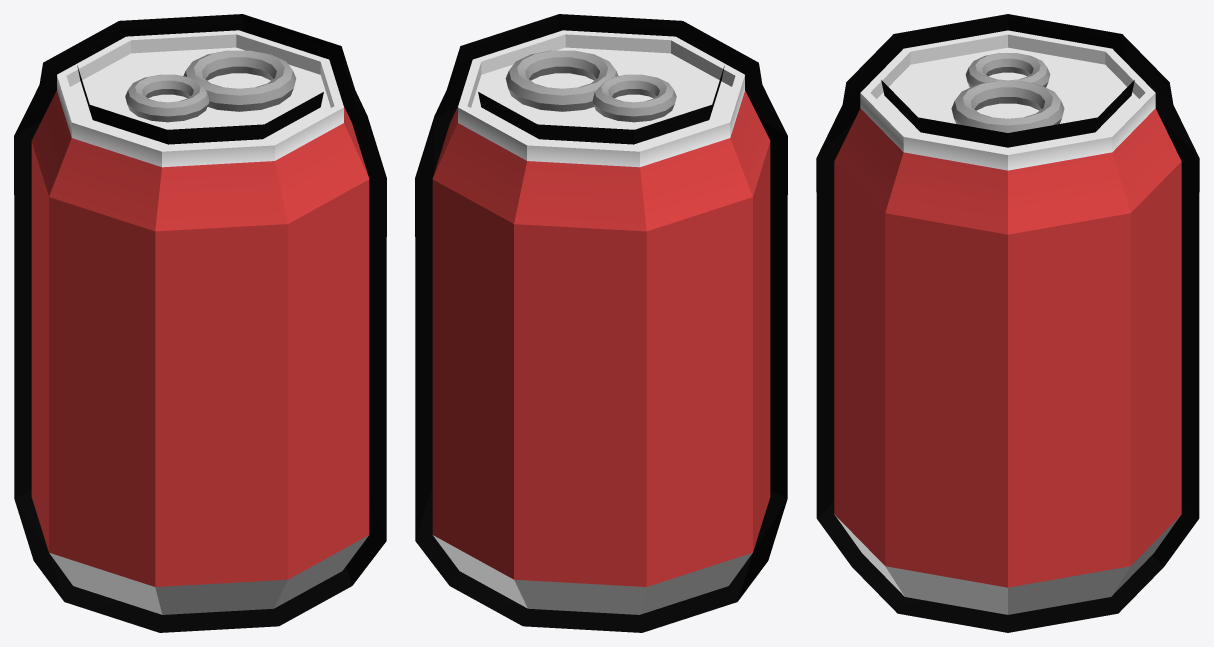
Rendered from soda_can.fbx.
The picture shows the model from 3 angles, left to right: view 1: azimuth 30°, elevation 25°; view 2: azimuth 150°, elevation 25°; view 3: azimuth 270°, elevation 25°; orthographic projection.
Parts seen in each view (by area): view 1: polySurface5; view 2: polySurface5; view 3: polySurface5.
Boxes of the visible parts, box(x1,y1,x2,y2) form: polySurface5: box(14, 14, 386, 632); polySurface5: box(415, 14, 787, 632); polySurface5: box(816, 14, 1199, 632).
Bounding box in the file's own units: 1.3 × 1.84 × 1.3.
